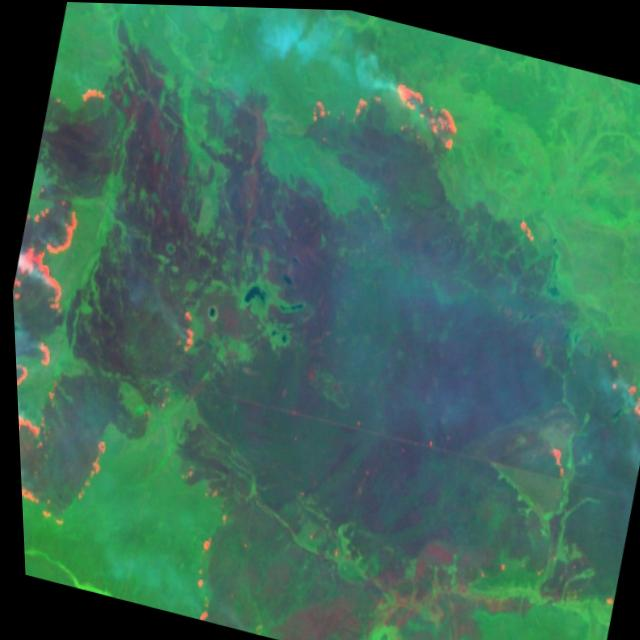fire: (2, 66, 191, 547), (296, 48, 473, 168), (588, 355, 640, 436)
